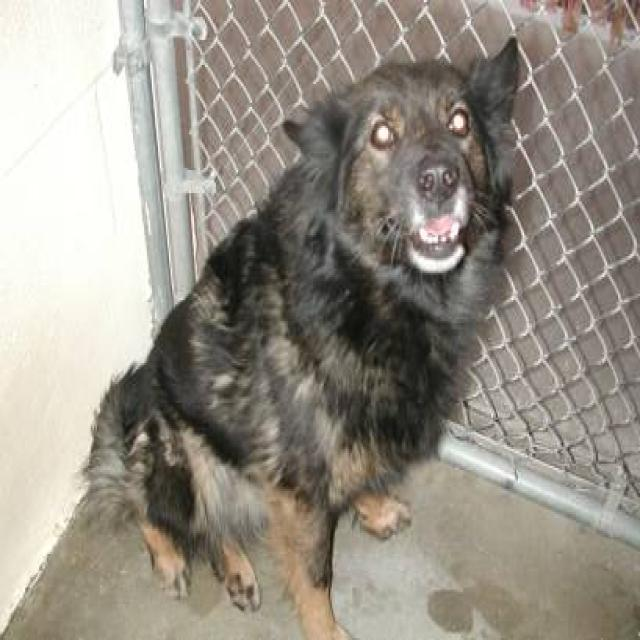dog: (78, 33, 521, 638)
